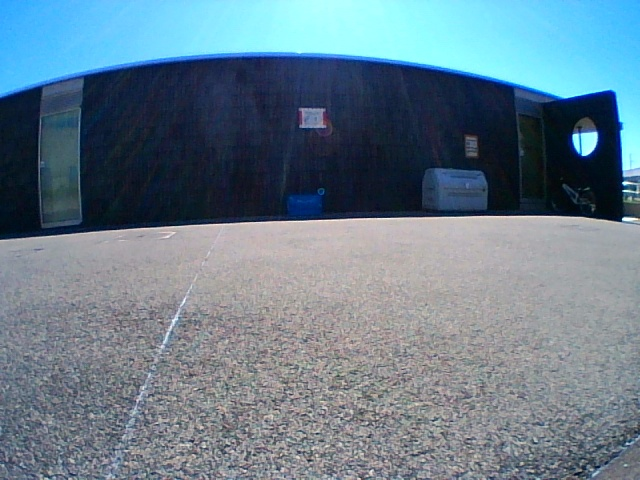blue_box: (288, 195, 320, 217)
